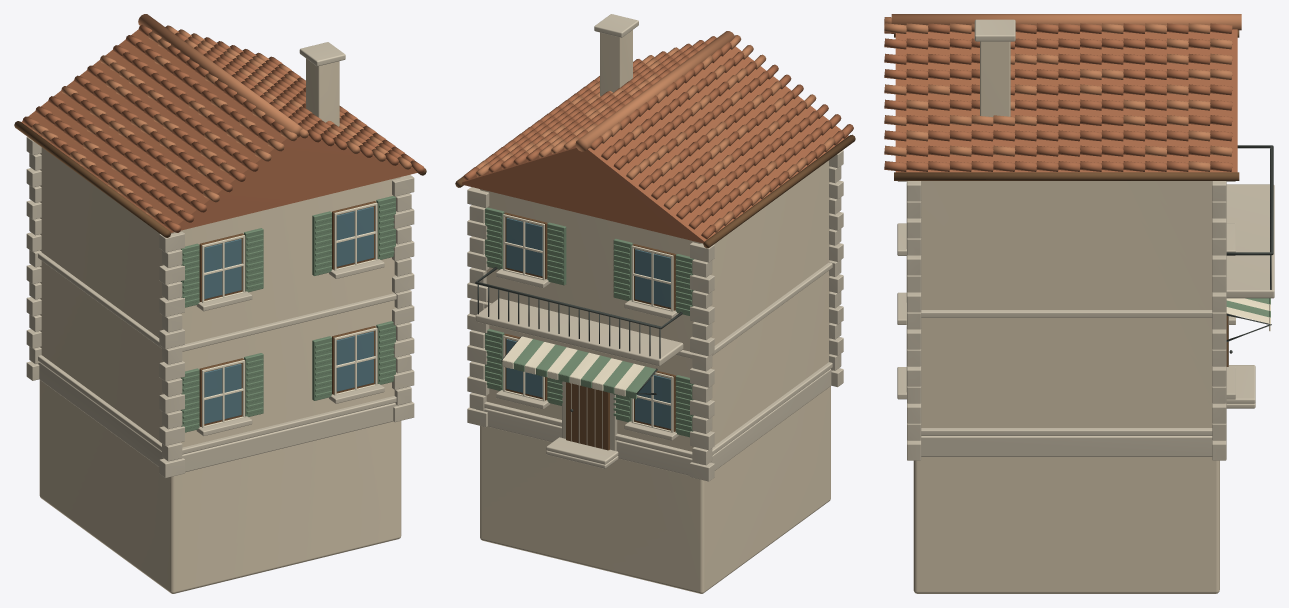
The model's file is village_house_2.glb.
3 views of the same model, side by side, from view 1: azimuth 30°, elevation 25°; view 2: azimuth 150°, elevation 25°; view 3: azimuth 270°, elevation 25° (orthographic). The views are drawn at different scales.
Parts seen in each view (by area): view 1: VillageHouse2_Geometry; view 2: VillageHouse2_Geometry; view 3: VillageHouse2_Geometry.
Boxes of the visible parts, x1,y1,x2,y2 form: VillageHouse2_Geometry: [14, 14, 426, 593]; VillageHouse2_Geometry: [455, 14, 855, 593]; VillageHouse2_Geometry: [884, 14, 1274, 593].
Size of the model in its own units: 6.82 by 11.74 by 7.65.
